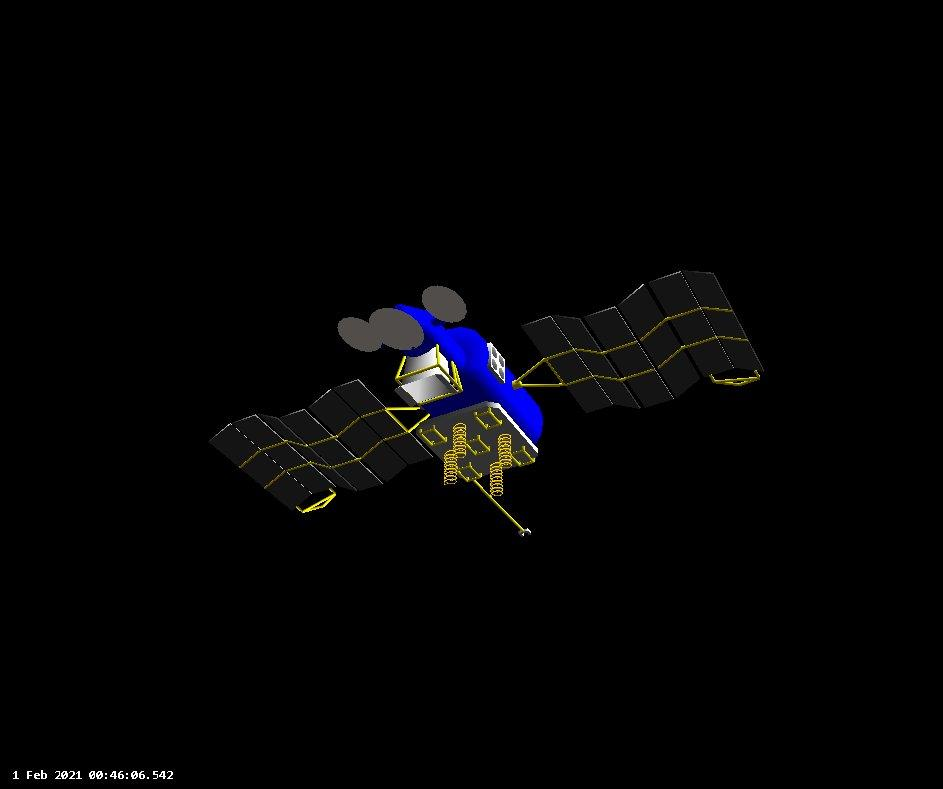antenna: (462, 472, 537, 540), (366, 304, 425, 356), (419, 281, 470, 326), (336, 314, 385, 355), (493, 429, 517, 475), (486, 456, 507, 498), (440, 448, 461, 489), (450, 417, 468, 463)
body: (388, 300, 548, 471)
solar: (514, 263, 772, 417), (203, 376, 441, 517)
